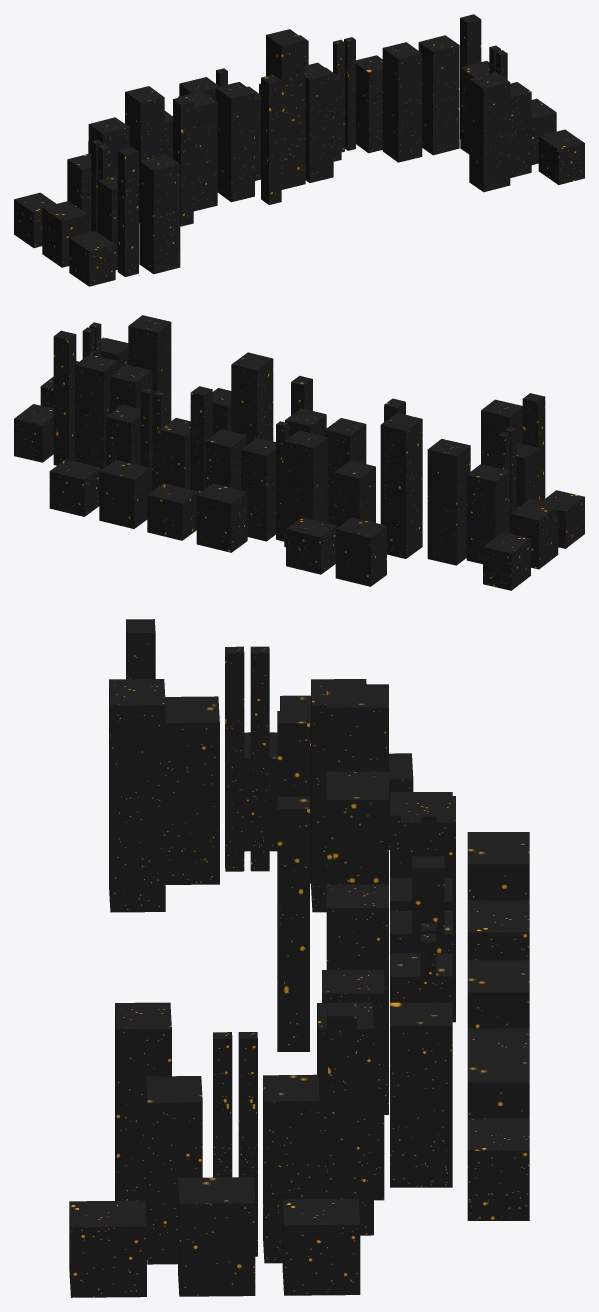
The model's file is BACKGROUNDbuildings.FBX.
3 renders of one model, top to bottom at view 1: azimuth 30°, elevation 25°; view 2: azimuth 150°, elevation 25°; view 3: azimuth 270°, elevation 25°, orthographic. The views are drawn at different scales.
Visible parts, largest first — view 1: Box005; view 2: Box005; view 3: Box005.
Boxes of the visible parts, left/top/right/bottom form: Box005: left=14, top=14, right=584, bottom=286; Box005: left=14, top=315, right=584, bottom=590; Box005: left=69, top=619, right=529, bottom=1297.
Size of the model in its own units: 670 by 190 by 275.
